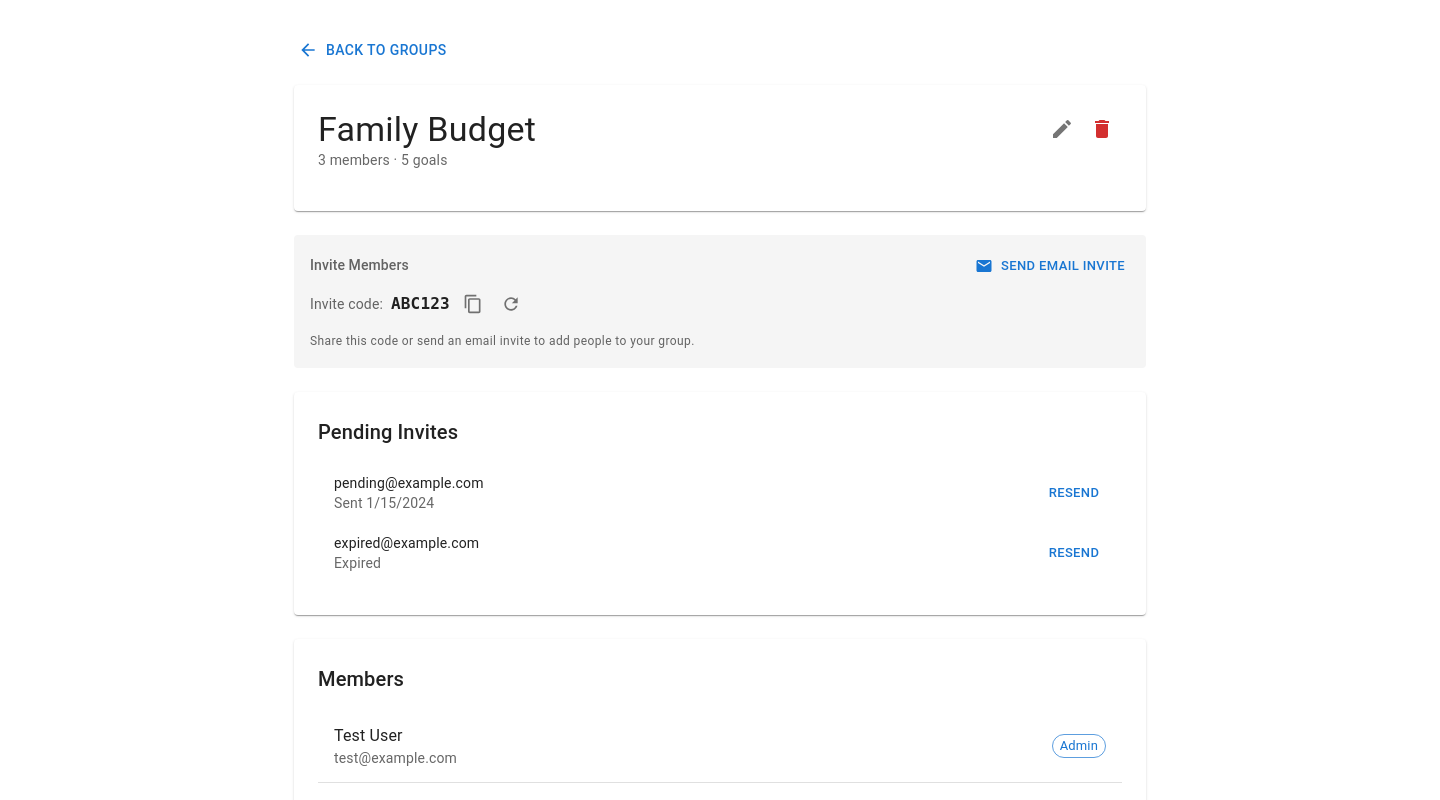
GroupDetail › when logged in as admin › edit group › opens edit dialog when edit button clicked
Expected: the heading "Family Budget" is shown, x1=318 y1=108 x2=536 y2=150
Click the button named "Edit group": (1062, 128) x1=1042 y1=108 x2=1082 y2=148
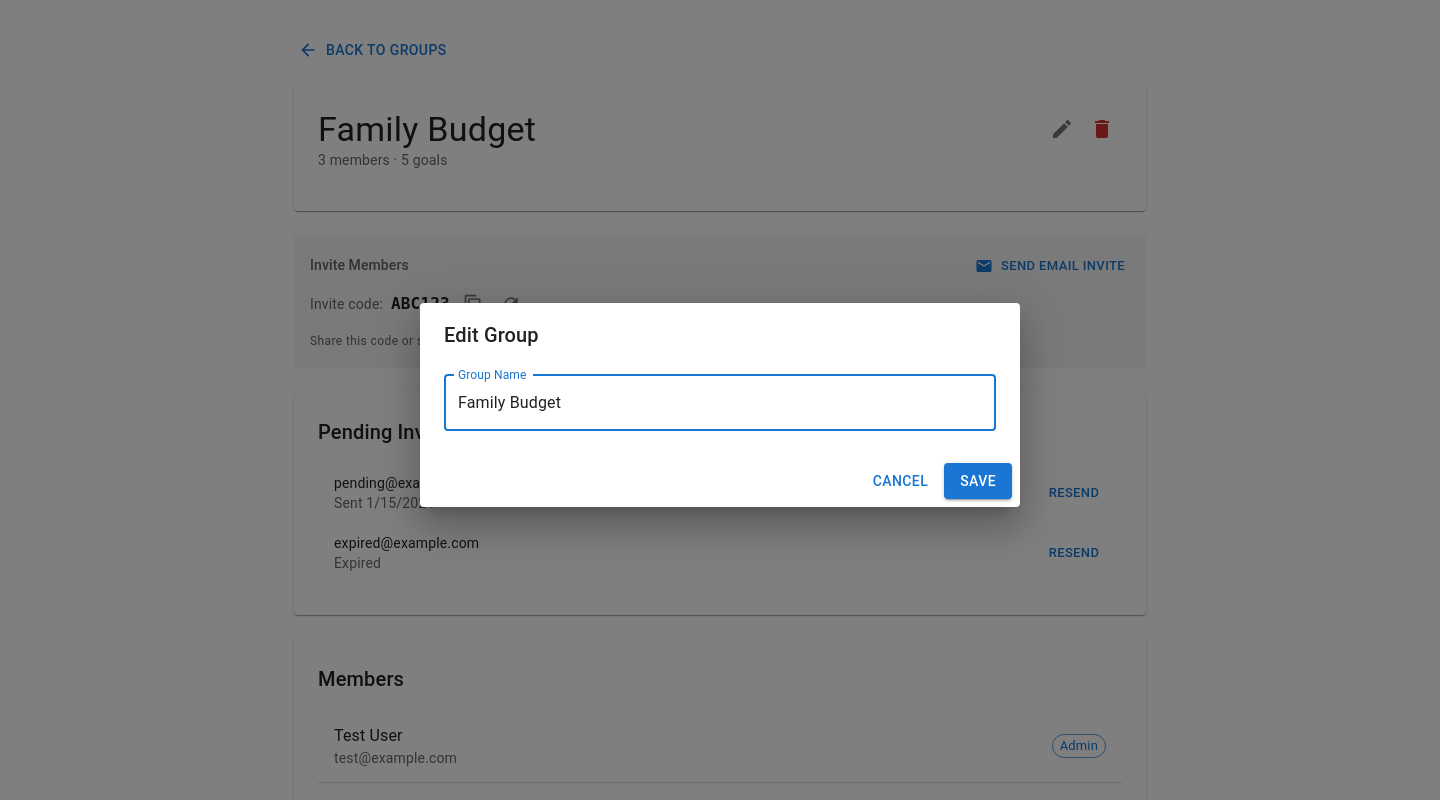
Expected: the heading "Edit Group" is shown, x1=444 y1=323 x2=539 y2=347
